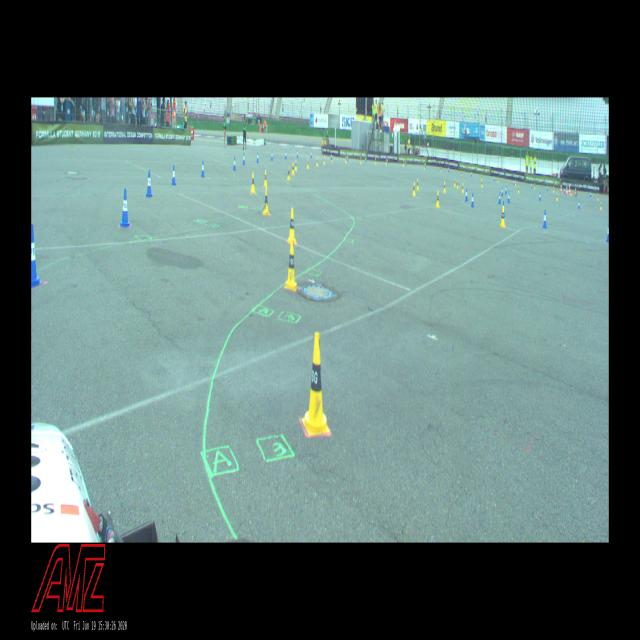blue_cone: (31, 224, 42, 288), (120, 189, 130, 227), (146, 170, 152, 198), (542, 210, 548, 228), (172, 165, 176, 184), (201, 160, 205, 177), (470, 193, 474, 208), (232, 157, 236, 170), (606, 224, 609, 241), (502, 201, 505, 218), (465, 188, 468, 202), (242, 153, 245, 165), (498, 192, 501, 204), (296, 149, 299, 158), (501, 187, 504, 196), (508, 191, 510, 204), (271, 150, 273, 161), (285, 150, 287, 160), (578, 200, 580, 210), (257, 152, 259, 162), (365, 155, 367, 164), (539, 192, 541, 200), (505, 186, 507, 194), (310, 150, 312, 158), (590, 191, 592, 197), (531, 182, 532, 189)
large_orange_cone: (575, 186, 577, 198), (569, 184, 571, 196), (566, 184, 568, 195)
yellow_cone: (302, 332, 330, 436), (284, 241, 298, 293), (287, 207, 297, 246), (262, 187, 270, 216), (500, 206, 506, 227), (250, 172, 256, 193), (263, 169, 268, 187), (435, 191, 440, 208), (412, 182, 416, 196), (292, 162, 295, 175), (416, 179, 419, 191), (288, 166, 290, 181), (461, 183, 464, 193), (453, 178, 456, 187), (444, 182, 446, 194), (295, 159, 297, 171), (316, 157, 318, 167), (324, 156, 326, 165), (600, 201, 602, 210), (481, 179, 483, 188), (345, 155, 347, 164), (307, 159, 309, 168), (331, 155, 333, 164), (386, 157, 388, 166), (456, 180, 458, 189), (360, 156, 362, 165), (556, 193, 558, 201), (518, 185, 520, 193), (403, 159, 405, 167), (597, 194, 599, 202), (423, 163, 425, 170), (497, 177, 499, 183), (375, 157, 376, 166), (553, 186, 554, 194), (534, 182, 535, 189)
